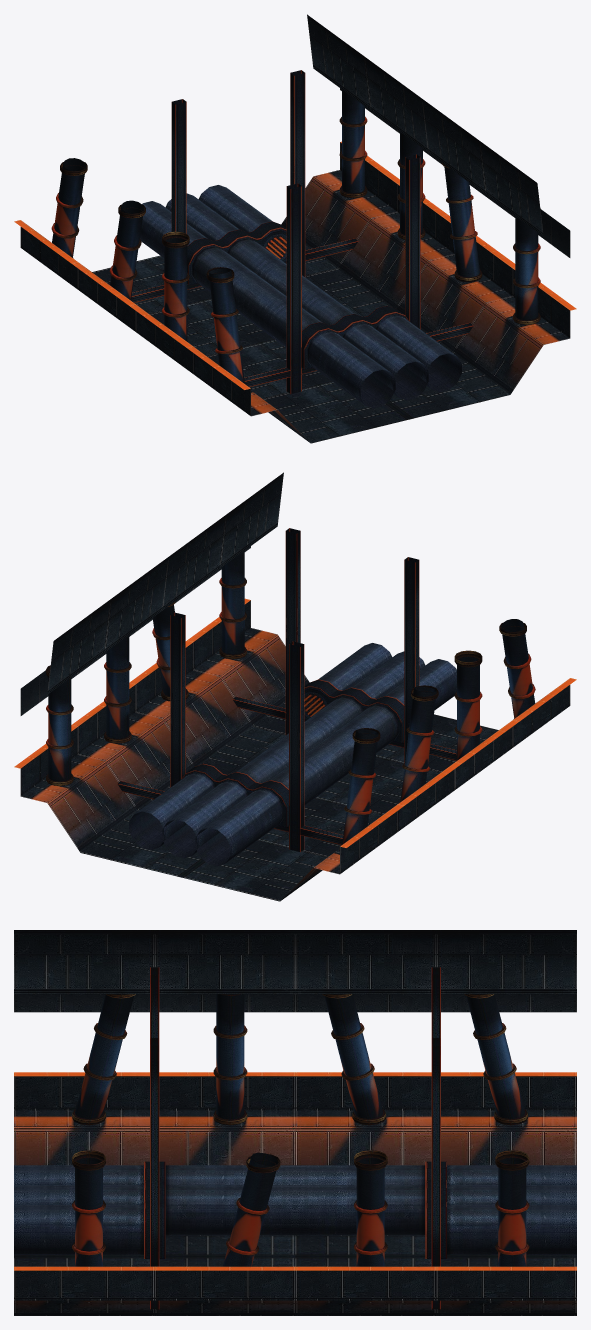
3 views of the same model, one above another, from view 1: azimuth 30°, elevation 25°; view 2: azimuth 150°, elevation 25°; view 3: azimuth 270°, elevation 25° (orthographic). The views are drawn at different scales.
Parts seen in each view (by area): view 1: bg_a_wall00, bg_a_wall03, tube_00, bg_a_wall01; view 2: bg_a_wall00, bg_a_wall03, tube_00, bg_a_wall01; view 3: bg_a_wall00, bg_a_wall01, bg_a_wall03, tube_00.
Part boxes in pixels (<box>): bg_a_wall00: <box>14,141,576,443</box>; bg_a_wall03: <box>51,70,540,394</box>; tube_00: <box>140,185,461,408</box>; bg_a_wall01: <box>307,14,570,257</box>; bg_a_wall00: <box>14,598,576,901</box>; bg_a_wall03: <box>46,528,535,852</box>; tube_00: <box>129,643,456,866</box>; bg_a_wall01: <box>20,472,283,715</box>; bg_a_wall00: <box>14,1072,576,1315</box>; bg_a_wall01: <box>14,930,576,1012</box>; bg_a_wall03: <box>72,967,529,1309</box>; tube_00: <box>14,1165,576,1254</box>.
Bounding box in the file's own units: 5000 × 2950 × 6000.
3 materials, 3 textured.
